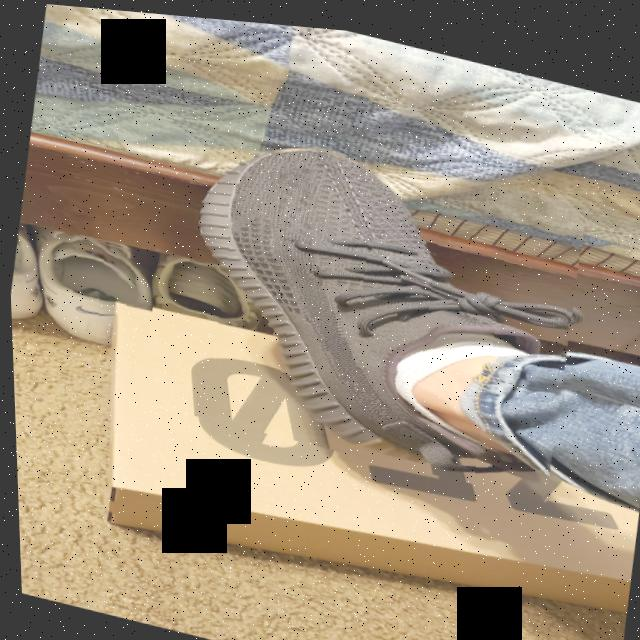shoe: (164, 114, 593, 497), (21, 223, 160, 354)
